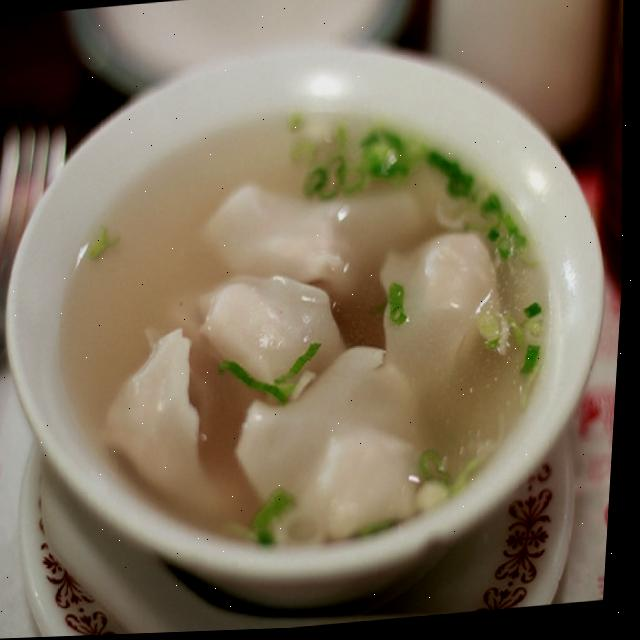汤锅炖物: (8, 34, 614, 591)
